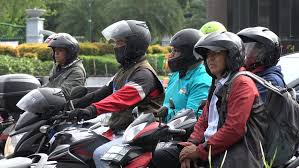helmet: (190, 29, 247, 77), (99, 17, 153, 64), (43, 30, 81, 64)
